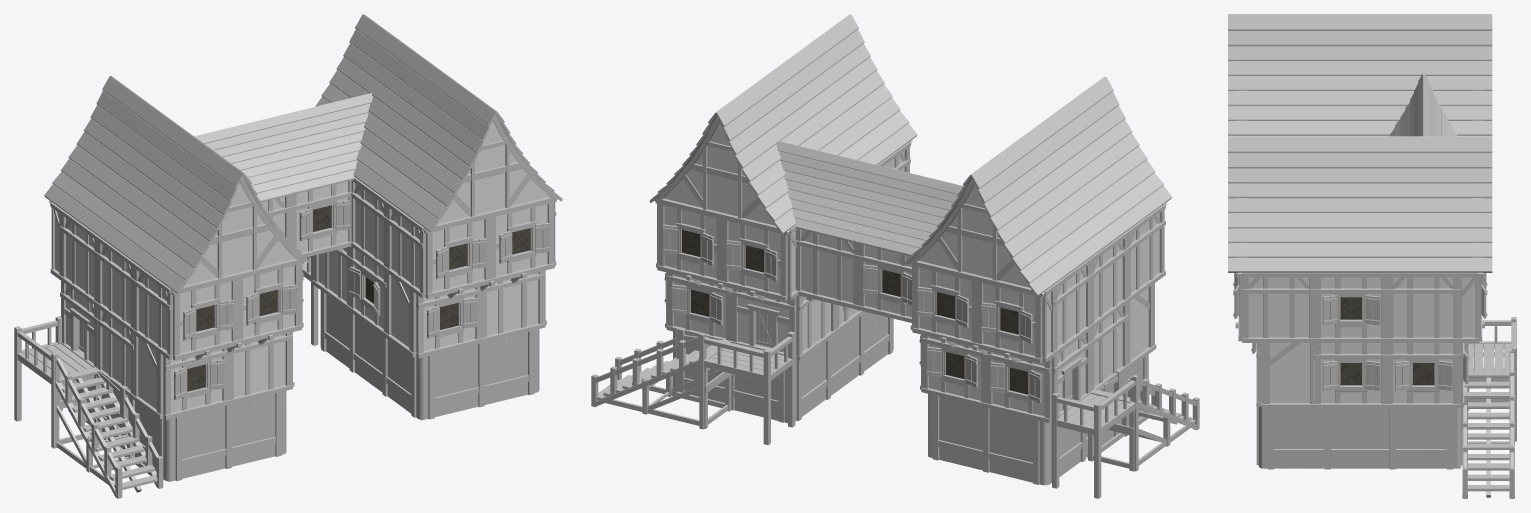
The model's file is House_1A21.fbx.
3 renders of one model, left to right at view 1: azimuth 30°, elevation 25°; view 2: azimuth 150°, elevation 25°; view 3: azimuth 270°, elevation 25°, orthographic.
Visible parts, largest first — view 1: House_1A21; view 2: House_1A21; view 3: House_1A21, Plane.266, Plane.264, Plane.265.
Boxes of the visible parts, x1,y1,x2,y2 form: House_1A21: (14,14,562,498); House_1A21: (591,14,1199,498); House_1A21: (1228,14,1516,498); Plane.266: (1340,297,1361,319); Plane.264: (1340,363,1361,385); Plane.265: (1413,363,1434,385).
Bounding box in the file's own units: 3020 × 1879 × 1597.
